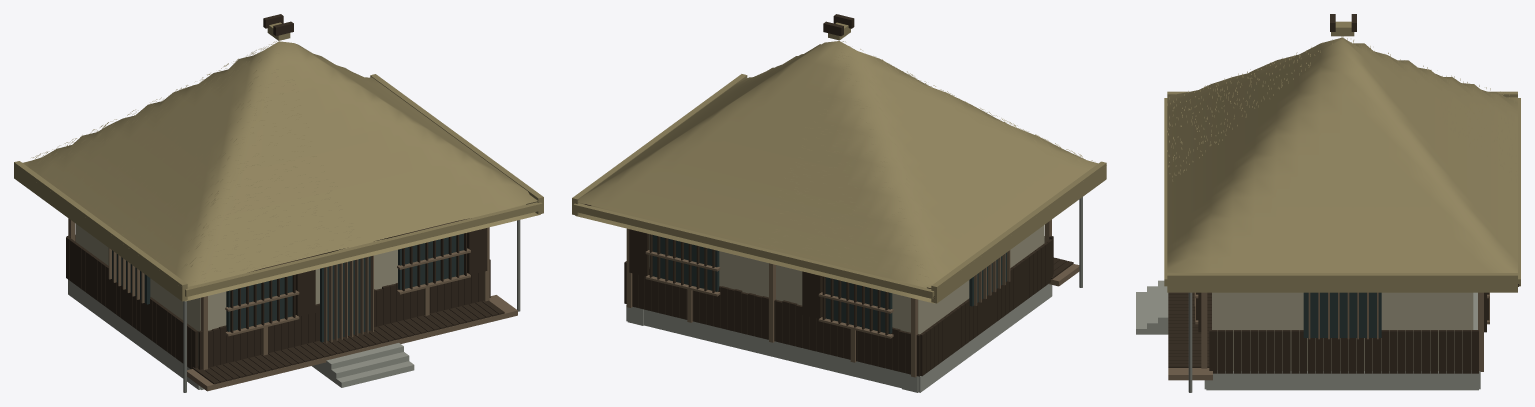
Rendered from thatch-house.glb.
3 views of the same model, side by side, from view 1: azimuth 30°, elevation 25°; view 2: azimuth 150°, elevation 25°; view 3: azimuth 270°, elevation 25° (orthographic). The views are drawn at different scales.
Parts seen in each view (by area): view 1: thatch, darkwood, wood, glass, stone, plaster, metal; view 2: thatch, darkwood, stone, plaster, wood, glass; view 3: thatch, darkwood, plaster, stone, glass, wood, metal.
Part boxes in pixels (x1,y1,x2,y2): thatch: (14, 22, 543, 301); darkwood: (66, 14, 504, 384); wood: (68, 218, 517, 391); glass: (112, 233, 463, 342); stone: (68, 279, 414, 389); plaster: (75, 224, 397, 365); metal: (183, 220, 520, 392); thatch: (572, 22, 1106, 303); darkwood: (584, 14, 1073, 376); stone: (626, 284, 1052, 392); plaster: (649, 225, 1044, 334); wood: (626, 219, 1079, 377); glass: (652, 235, 1006, 333); thatch: (1164, 21, 1520, 292); darkwood: (1168, 14, 1519, 373); plaster: (1212, 292, 1473, 370); stone: (1136, 280, 1480, 390); glass: (1303, 292, 1381, 337); wood: (1168, 292, 1489, 380); metal: (1188, 292, 1192, 392).
Size of the model in its own units: 11.31 by 8.43 by 9.88.
